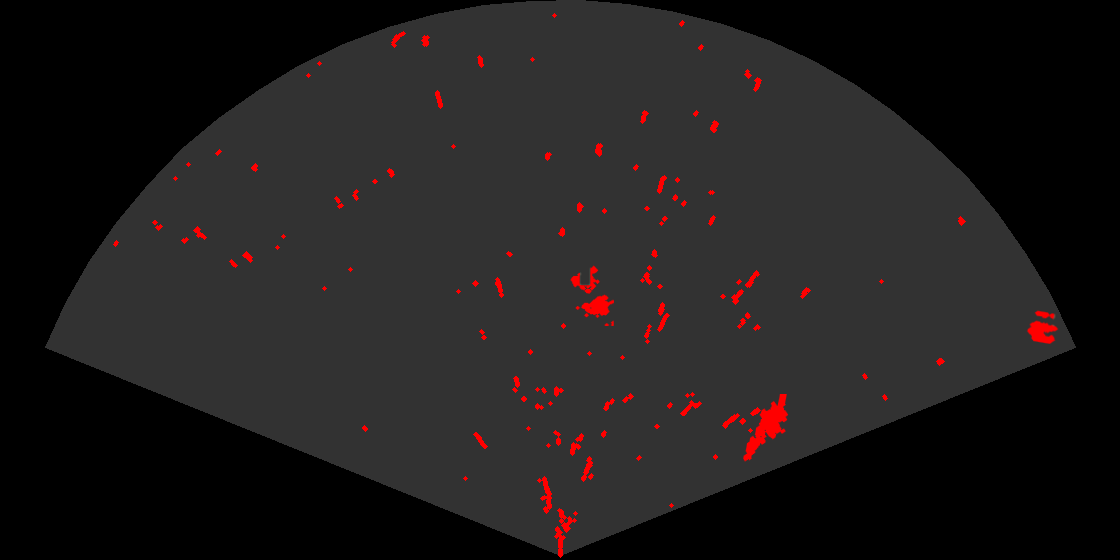ball: (1025, 309, 1060, 346)
cage: (569, 264, 614, 326)
frogman: (742, 394, 790, 463)
